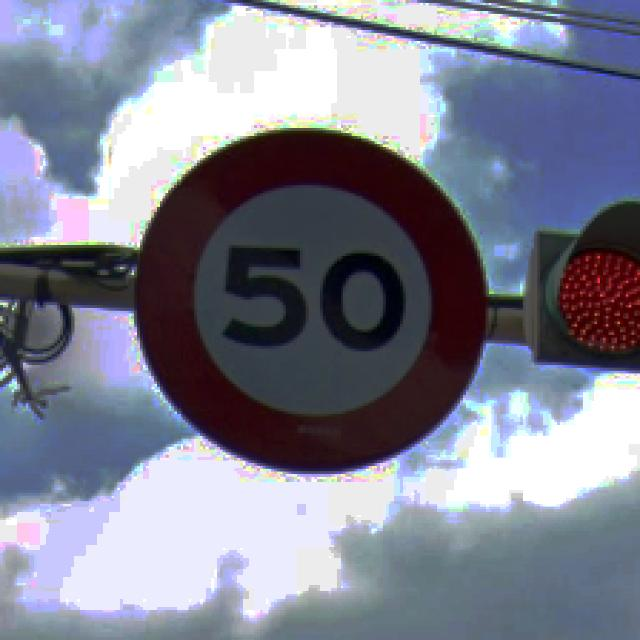max50: (128, 122, 488, 474)
